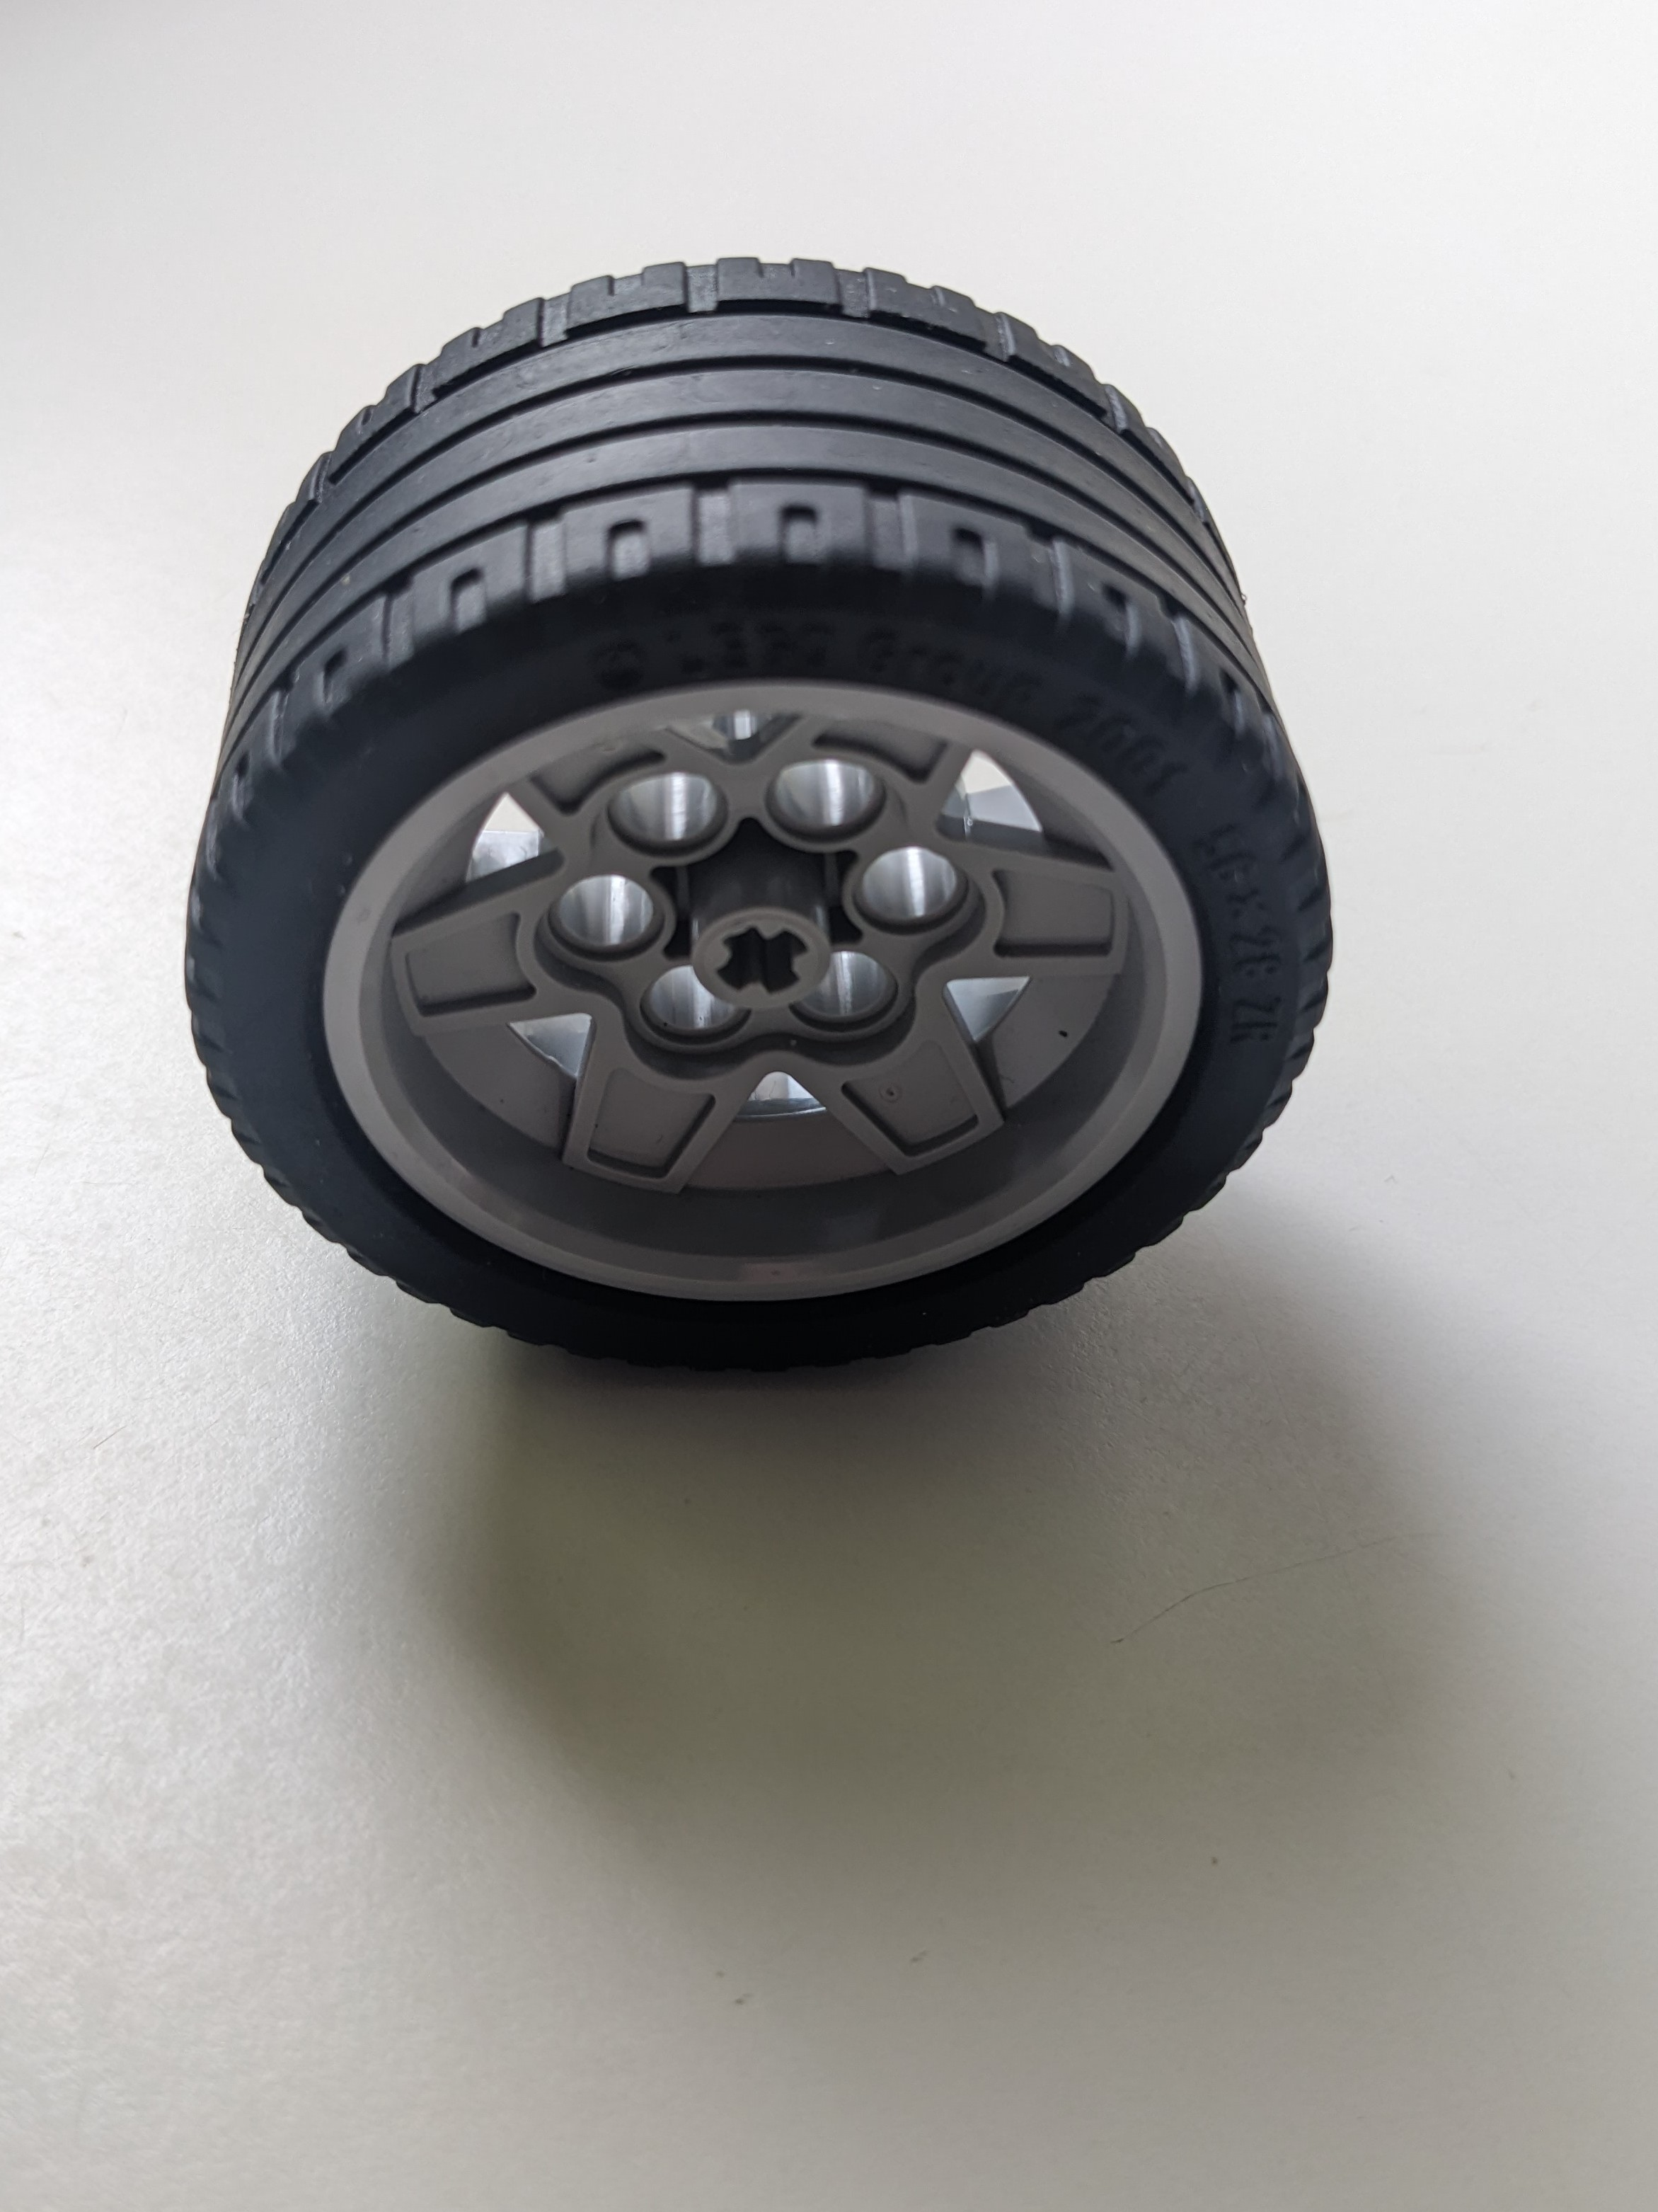Rad: (158, 239, 1355, 1411)
